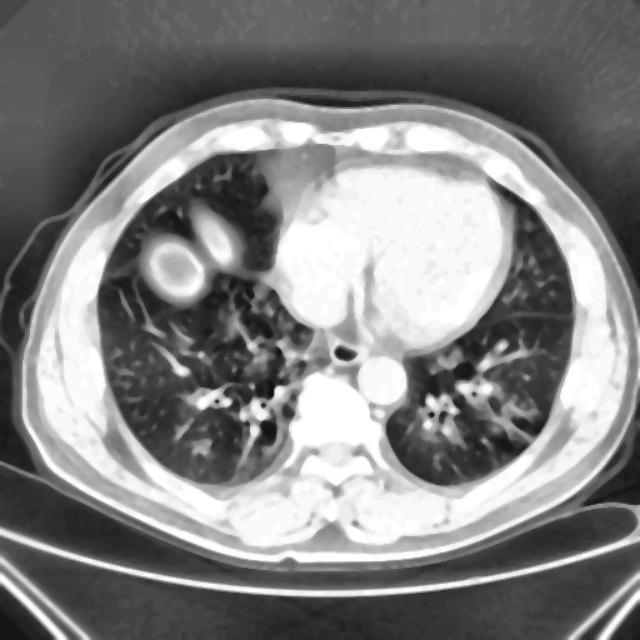covid: (4, 88, 638, 572)
